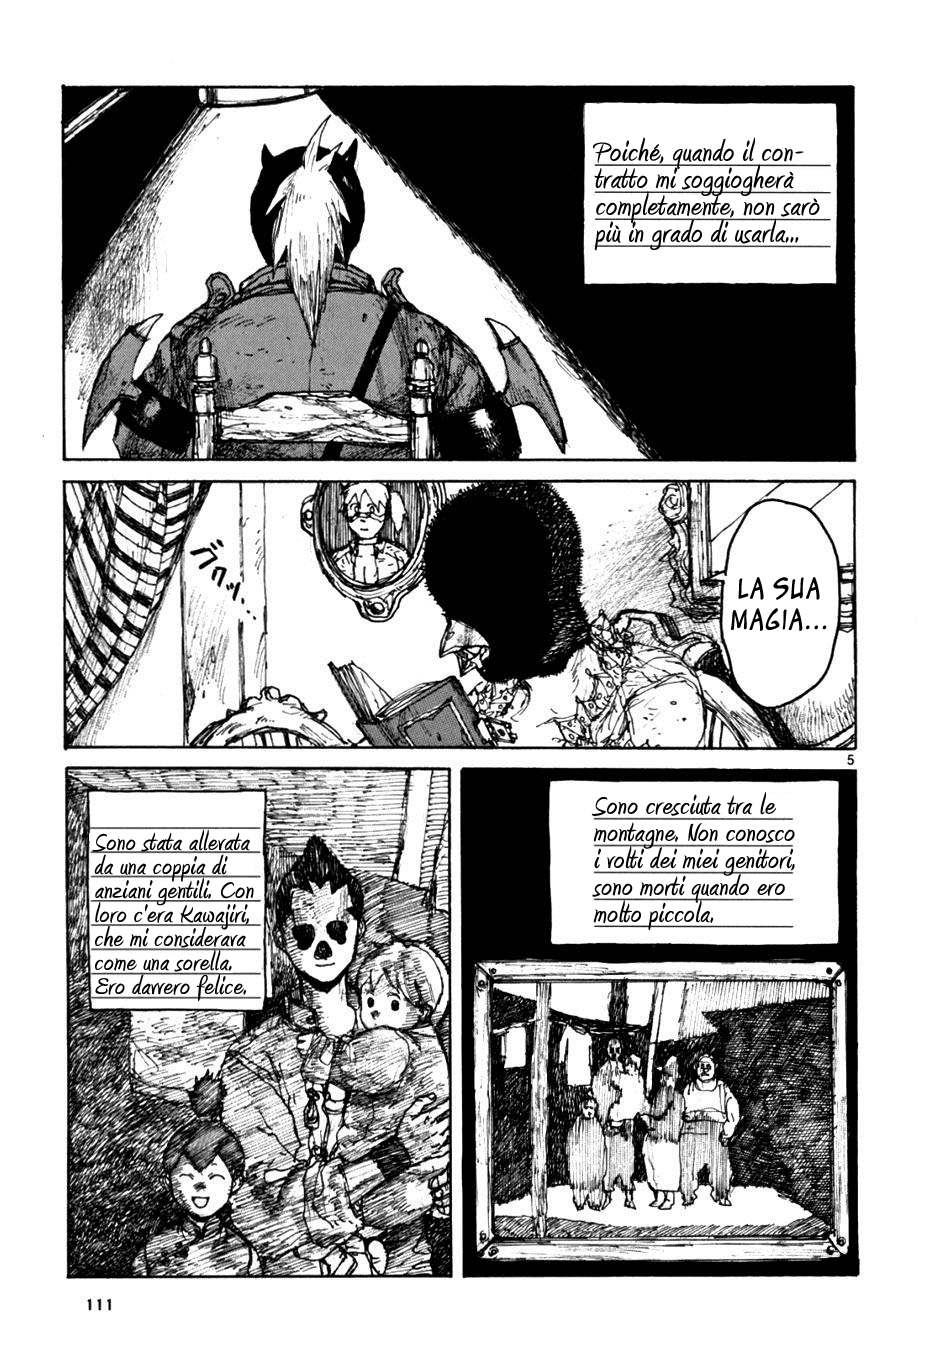Baloon: (544, 779, 840, 946), (586, 94, 844, 284), (84, 788, 267, 1015), (715, 500, 836, 707)
Vignetta: (63, 88, 861, 465), (63, 477, 861, 752), (456, 763, 863, 1279), (63, 761, 452, 1277)
